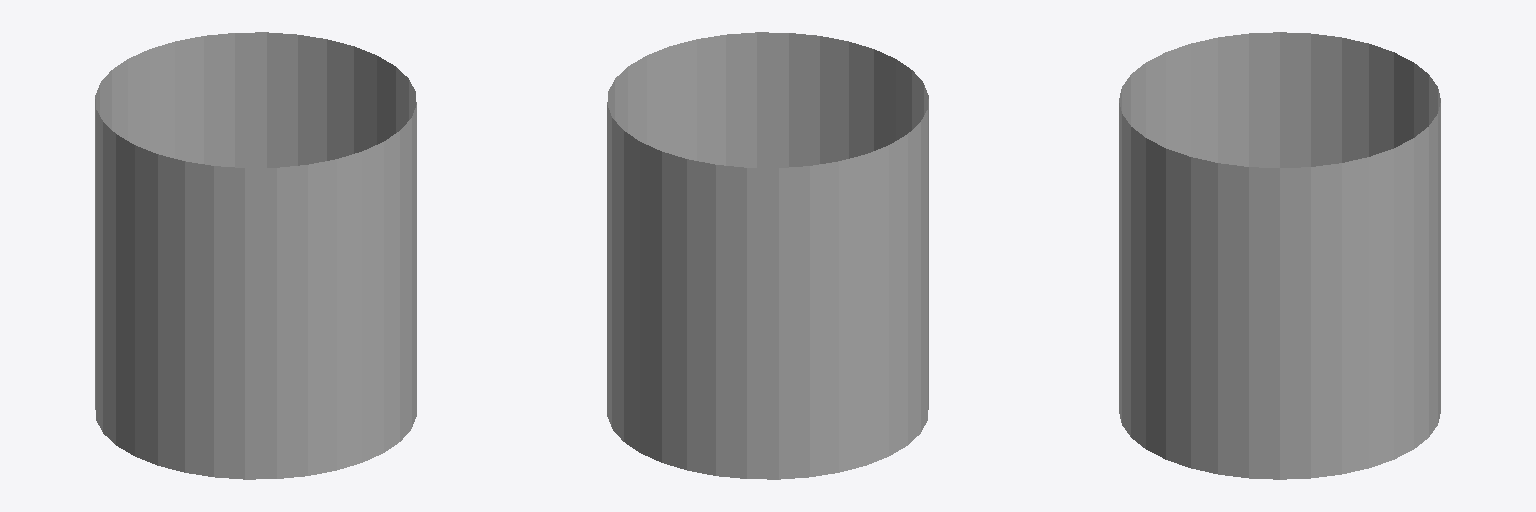
The model's file is Shield_trail_model.obj.
3 views of the same model, side by side, from view 1: azimuth 30°, elevation 25°; view 2: azimuth 150°, elevation 25°; view 3: azimuth 270°, elevation 25° (orthographic).
Parts seen in each view (by area): view 1: Cylinder; view 2: Cylinder; view 3: Cylinder.
Part boxes in pixels (left/top/right/bottom): Cylinder: left=95, top=32, right=416, bottom=479; Cylinder: left=607, top=32, right=928, bottom=479; Cylinder: left=1119, top=32, right=1440, bottom=479.
Bounding box in the file's own units: 1.88 × 2 × 1.88.